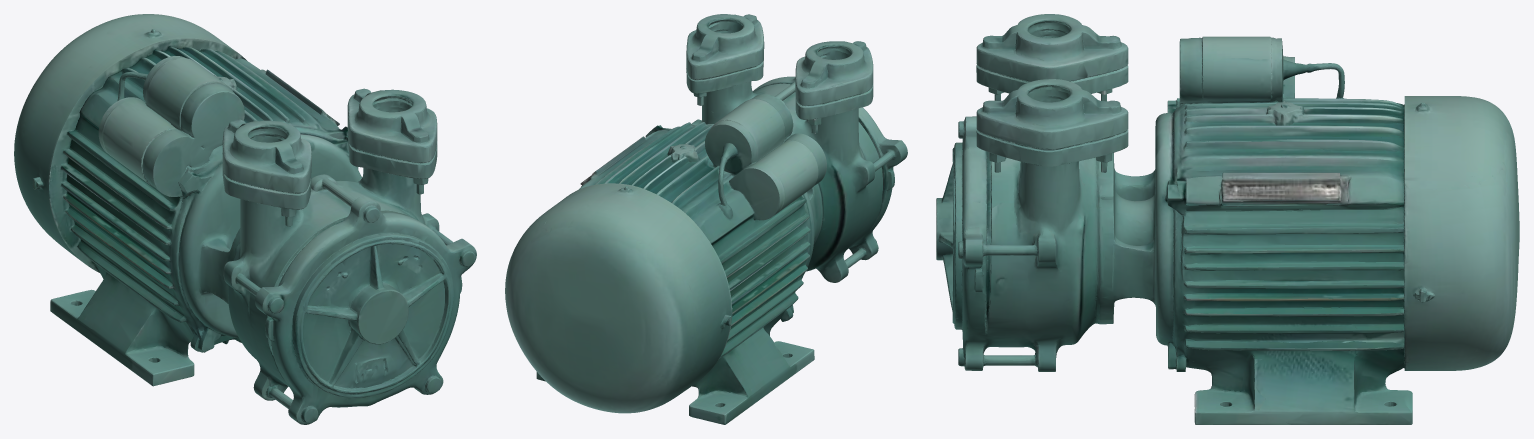
File: 1owp.glb
The picture shows the model from 3 angles, left to right: view 1: azimuth 30°, elevation 25°; view 2: azimuth 150°, elevation 25°; view 3: azimuth 270°, elevation 25°; orthographic projection. The views are drawn at different scales.
Visible parts, largest first — view 1: model; view 2: model; view 3: model.
Part boxes in pixels (x1=…): model: x1=14, y1=14, x2=476, y2=424; model: x1=505, y1=14, x2=907, y2=424; model: x1=936, y1=14, x2=1519, y2=424.
Size of the model in its own units: 0.9572 by 1.12 by 1.91.
Materials: 1 (1 with a texture image).
